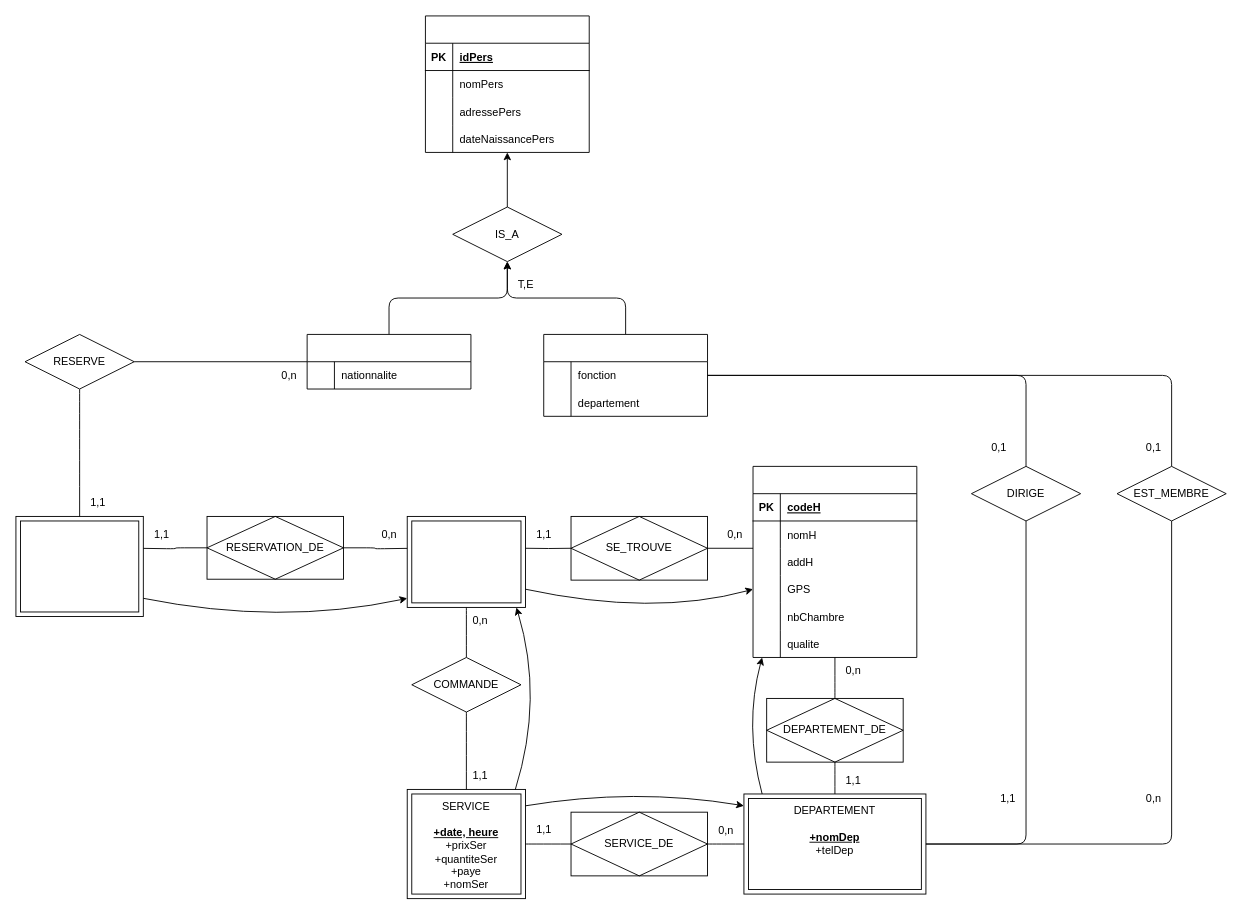
Some shapes in this 1242 by 915 pixel diagram are drawn without their labels. The shapes that lost their labels are listed below. From the top down, each one's box as (x1, y1, x2, y2) in pixels, then its label:
(425, 15, 589, 152): PESRONNE
(306, 334, 471, 389): CLIENT
(543, 334, 708, 416): PERSONNEL
(15, 516, 143, 617): RESERVATION +dateDebut +prixRes +dateFin +nbAccomp
(406, 516, 526, 607): CHAMBRE +numC +camacite +superficie
(752, 465, 917, 657): HOTEL
